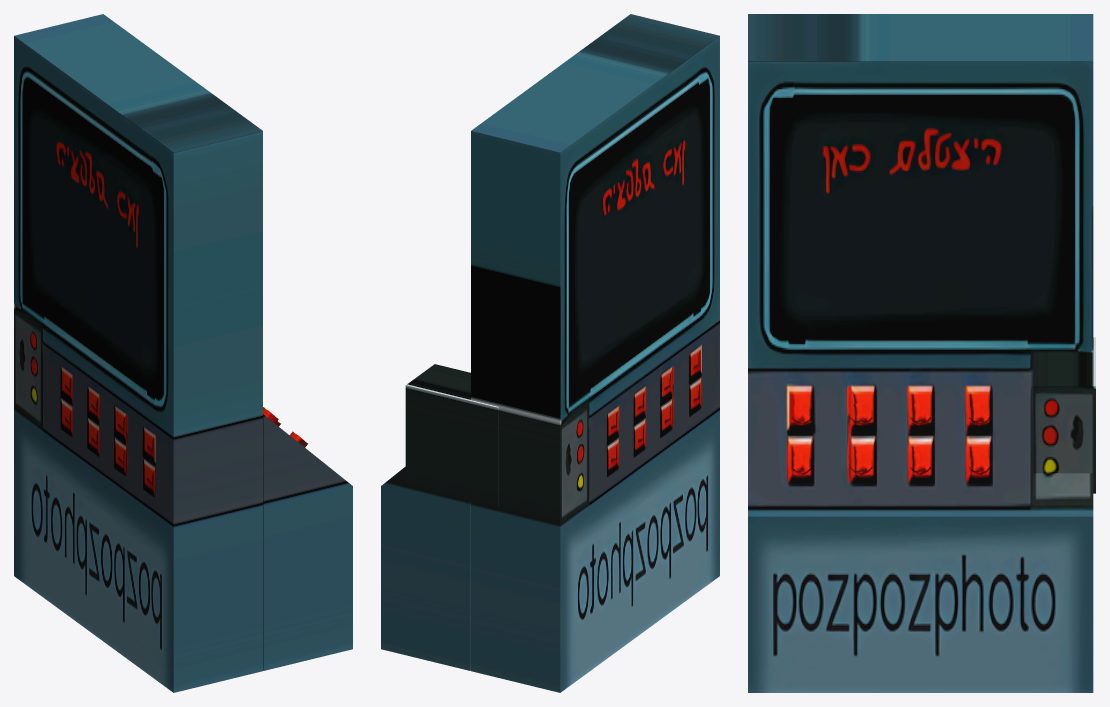
Rendered from PhotoM.glb.
3 renders of one model, left to right at view 1: azimuth 30°, elevation 25°; view 2: azimuth 150°, elevation 25°; view 3: azimuth 270°, elevation 25°, orthographic. The views are drawn at different scales.
Parts seen in each view (by area): view 1: PhotoM; view 2: PhotoM; view 3: PhotoM.
Boxes of the visible parts, box(x1,y1,x2,y2) form: PhotoM: box(14, 14, 352, 692); PhotoM: box(381, 14, 719, 692); PhotoM: box(748, 14, 1095, 692).
Size of the model in its own units: 84.39 by 243 by 131.
1 material, 1 textured.
